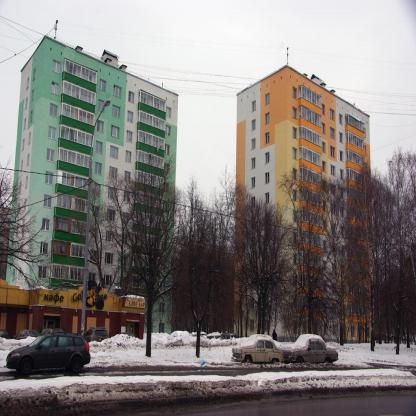Car: (10, 329, 90, 379), (230, 336, 283, 367), (291, 334, 339, 364), (84, 326, 110, 344), (14, 327, 41, 338), (43, 327, 65, 337), (2, 330, 9, 341)
